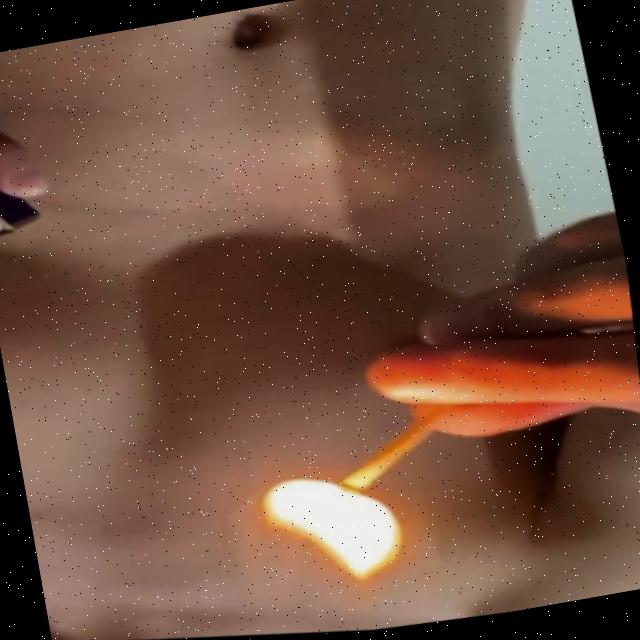fire: (247, 457, 425, 619)
